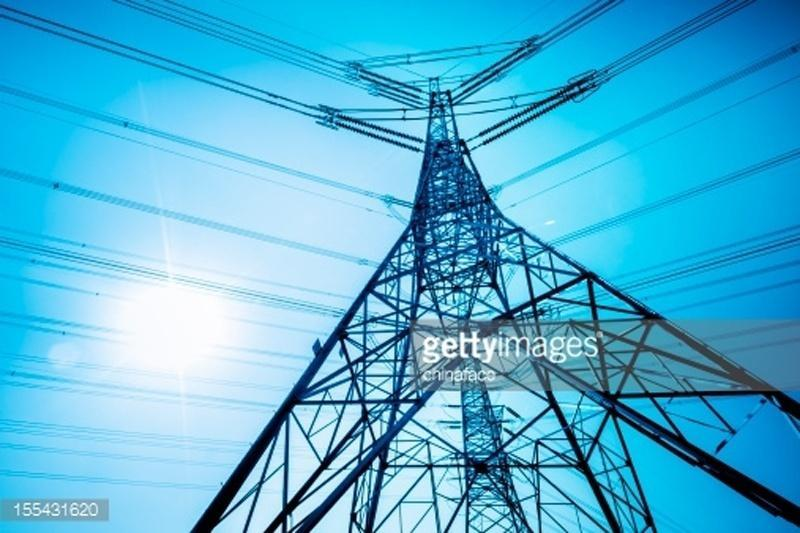power_tower: (165, 35, 800, 533)
